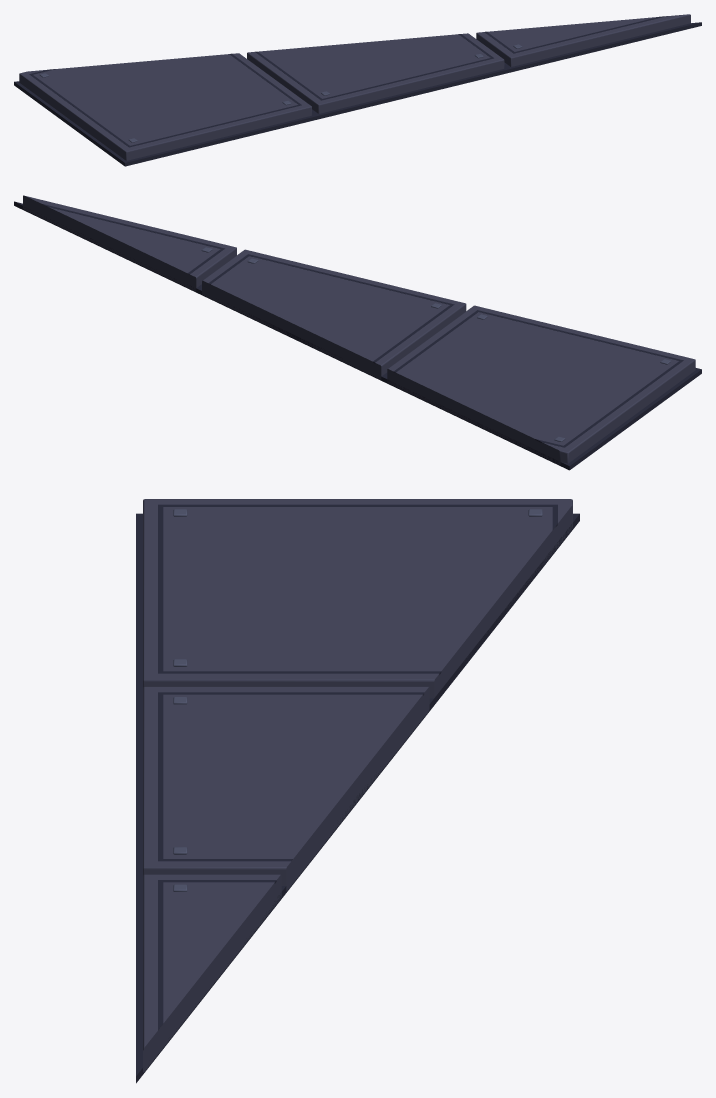
File: floor.slope3.plate.glb
The picture shows the model from 3 angles, top to bottom: view 1: azimuth 30°, elevation 25°; view 2: azimuth 150°, elevation 25°; view 3: azimuth 270°, elevation 25°; orthographic projection. The views are drawn at different scales.
Visible parts, largest first — view 1: GEO-floor.slope3.plate; view 2: GEO-floor.slope3.plate; view 3: GEO-floor.slope3.plate.
Boxes of the visible parts, x1,y1,x2,y2 form: GEO-floor.slope3.plate: [14, 14, 701, 166]; GEO-floor.slope3.plate: [14, 195, 701, 470]; GEO-floor.slope3.plate: [136, 499, 579, 1083].
Size of the model in its own units: 3 by 0.069 by 1.
